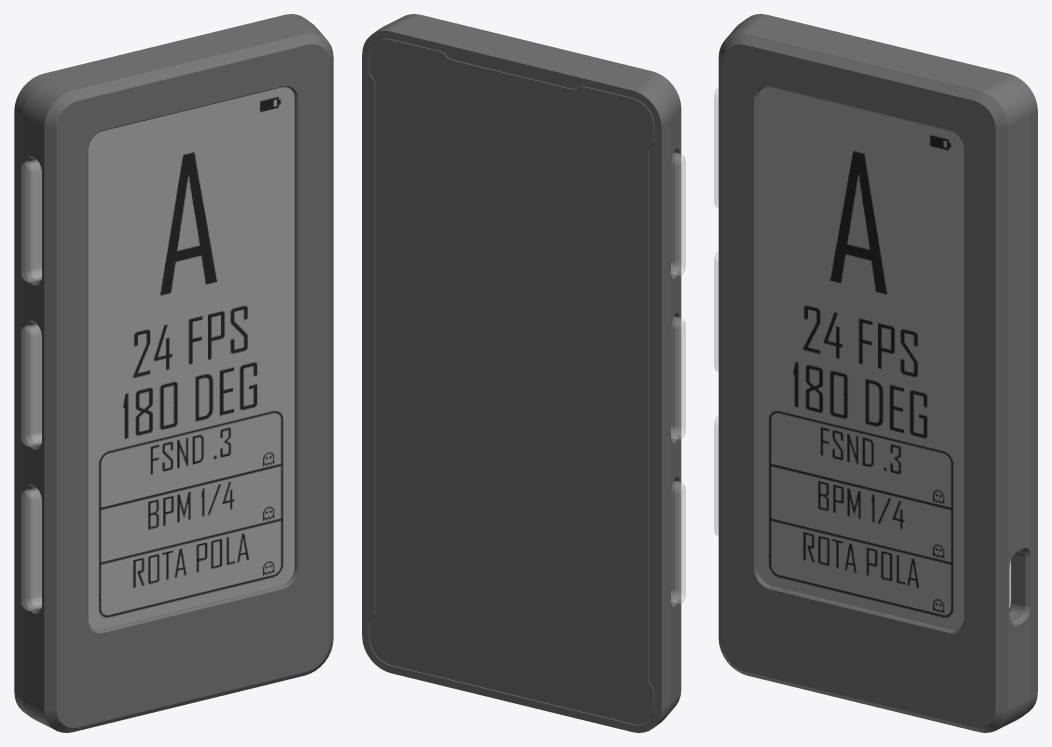
File: CineTag Black.glb
3 renders of one model, left to right at view 1: azimuth 30°, elevation 25°; view 2: azimuth 150°, elevation 25°; view 3: azimuth 330°, elevation 25°, orthographic.
Parts seen in each view (by area): view 1: Body1.001, Cinetag_Screen, Body1, Body1.005, Body1.004; view 2: Body1.002, Body1.001, Body1.004, Body1, Body1.005; view 3: Body1.001, Cinetag_Screen, Body1.005, Body1, Body1.004.
Part boxes in pixels (x1,y1,x2,y2): Body1.001: [14, 14, 333, 732]; Cinetag_Screen: [88, 87, 294, 629]; Body1: [21, 324, 41, 446]; Body1.005: [21, 159, 41, 282]; Body1.004: [21, 488, 41, 610]; Body1.002: [370, 38, 654, 724]; Body1.001: [362, 14, 681, 732]; Body1.004: [671, 481, 685, 603]; Body1: [671, 317, 685, 439]; Body1.005: [671, 153, 685, 275]; Body1.001: [718, 14, 1037, 732]; Cinetag_Screen: [757, 87, 963, 629]; Body1.005: [714, 88, 718, 207]; Body1: [714, 252, 718, 371]; Body1.004: [714, 416, 718, 536].
Size of the model in its own units: 5.77 by 11.55 by 0.9405.
Materials: 12 (1 with a texture image).
